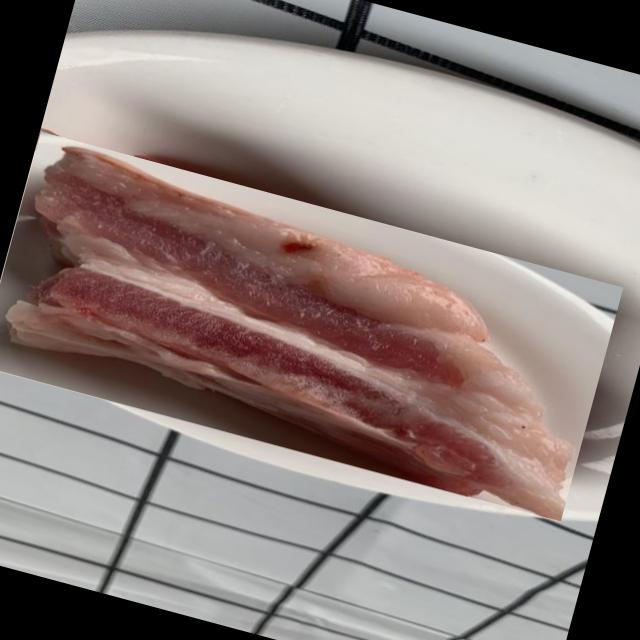chicken: (0, 131, 622, 522)
